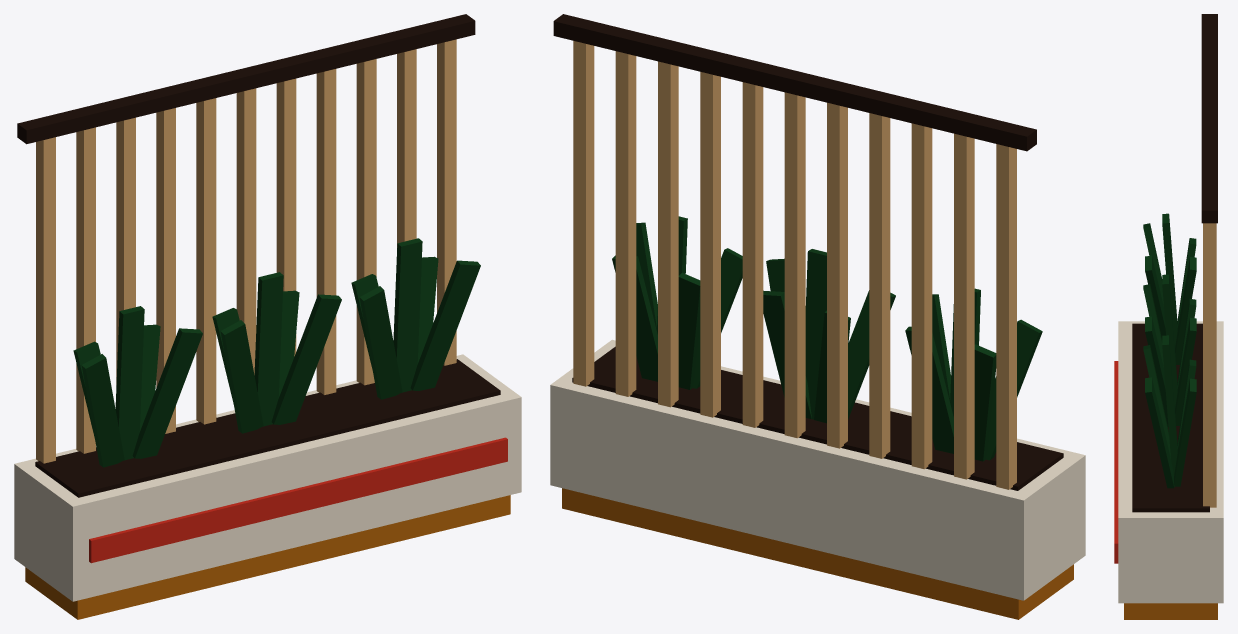
Rendered from cozy_bowling_planter_divider.obj.
3 renders of one model, left to right at view 1: azimuth 30°, elevation 25°; view 2: azimuth 150°, elevation 25°; view 3: azimuth 270°, elevation 25°, orthographic. The views are drawn at different scales.
Parts seen in each view (by area): view 1: Planter_Mesh; view 2: Planter_Mesh; view 3: Planter_Mesh.
Boxes of the visible parts, left/top/right/bottom form: Planter_Mesh: left=14, top=14, right=521, bottom=619; Planter_Mesh: left=550, top=14, right=1085, bottom=619; Planter_Mesh: left=1114, top=14, right=1223, bottom=619.
Size of the model in its own units: 1.68 by 1.64 by 0.395.
